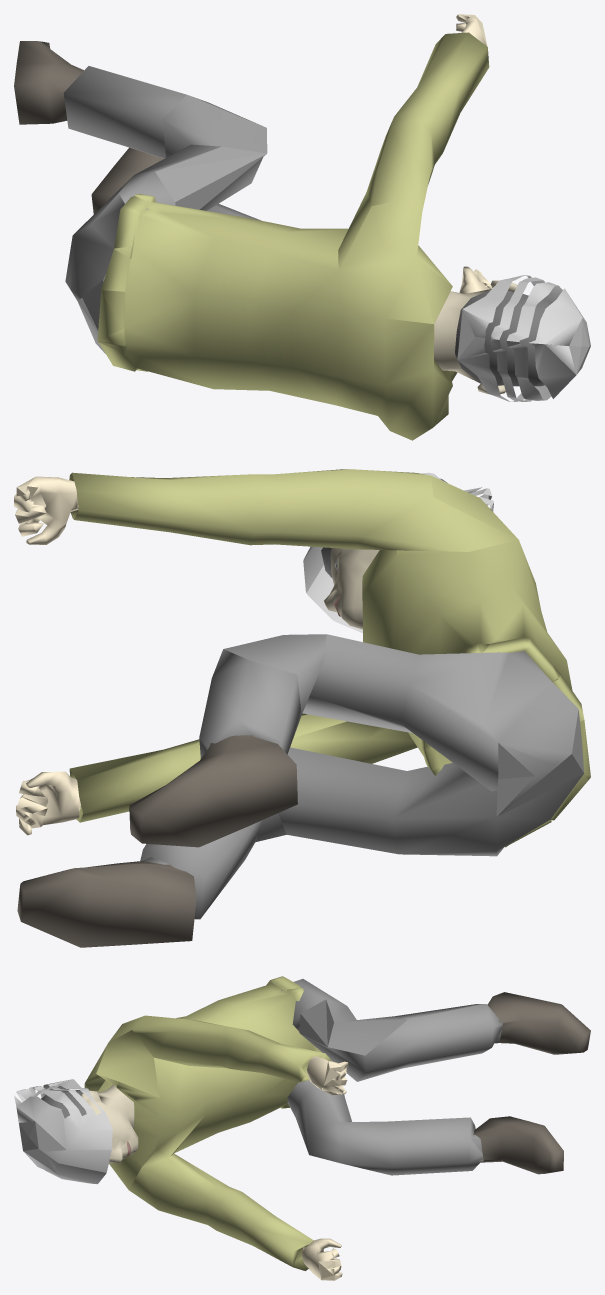
The model's file is bicyclist.dae.
3 renders of one model, top to bottom at view 1: azimuth 30°, elevation 25°; view 2: azimuth 150°, elevation 25°; view 3: azimuth 270°, elevation 25°, orthographic. The views are drawn at different scales.
Visible parts, largest first — view 1: instance_0_004, instance_0_002, instance_0_028, instance_0_003, instance_0_005, instance_0_021, instance_0; view 2: instance_0_002, instance_0_004, instance_0_003, instance_0, instance_0_021, instance_0_028; view 3: instance_0_004, instance_0_002, instance_0_003, instance_0_028, instance_0, instance_0_021, instance_0_005.
Boxes of the visible parts, x1=… form: instance_0_004: x1=97, y1=32, x2=489, y2=440; instance_0_002: x1=63, y1=66, x2=267, y2=353; instance_0_028: x1=457, y1=275, x2=590, y2=401; instance_0_003: x1=14, y1=41, x2=164, y2=214; instance_0_005: x1=455, y1=289, x2=552, y2=386; instance_0_021: x1=434, y1=280, x2=517, y2=394; instance_0: x1=456, y1=14, x2=492, y2=293; instance_0_002: x1=140, y1=634, x2=584, y2=919; instance_0_004: x1=69, y1=469, x2=590, y2=847; instance_0_003: x1=17, y1=735, x2=297, y2=947; instance_0: x1=14, y1=476, x2=80, y2=835; instance_0_021: x1=324, y1=548, x2=379, y2=629; instance_0_028: x1=303, y1=472, x2=493, y2=633; instance_0_004: x1=84, y1=976, x2=331, y2=1270; instance_0_002: x1=281, y1=979, x2=503, y2=1175; instance_0_003: x1=473, y1=992, x2=590, y2=1174; instance_0_028: x1=14, y1=1079, x2=112, y2=1184; instance_0: x1=301, y1=1056, x2=348, y2=1280; instance_0_021: x1=80, y1=1084, x2=138, y2=1163; instance_0_005: x1=41, y1=1090, x2=86, y2=1118.
Bounding box in the file's own units: 358 × 234 × 560.
